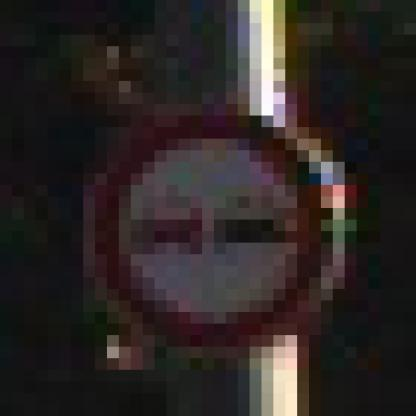No Overtaking: (61, 59, 358, 348)
